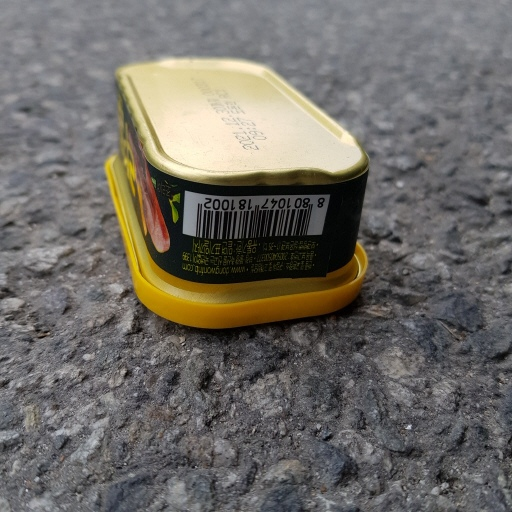Metal_2: (106, 56, 369, 330)
